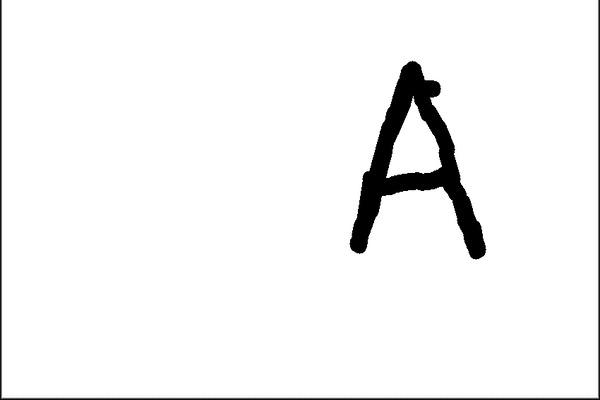A: (333, 54, 500, 263)
